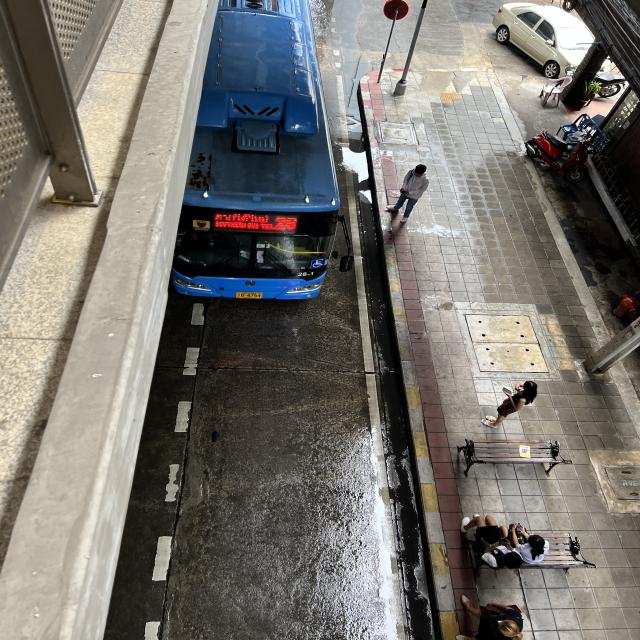Bus-Line-Number: (271, 216, 299, 233)
Destination-Sign-Normal: (212, 211, 274, 231)
TSB-Bus: (170, 0, 341, 305)
